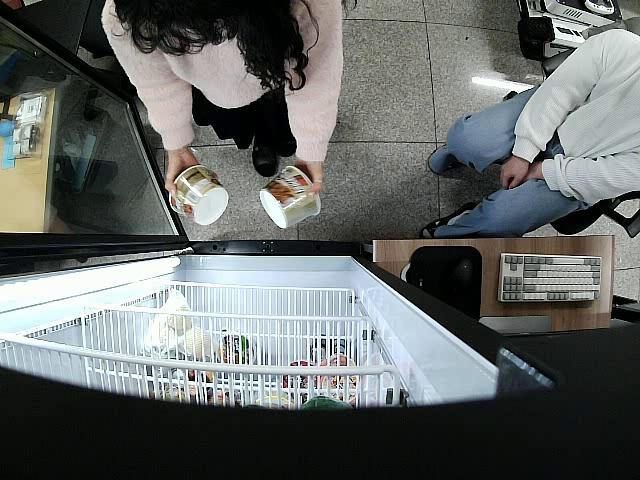00_hand: (165, 150, 199, 193), (296, 160, 323, 201)
03_chapagetti_L: (260, 164, 320, 230), (167, 164, 229, 227)
